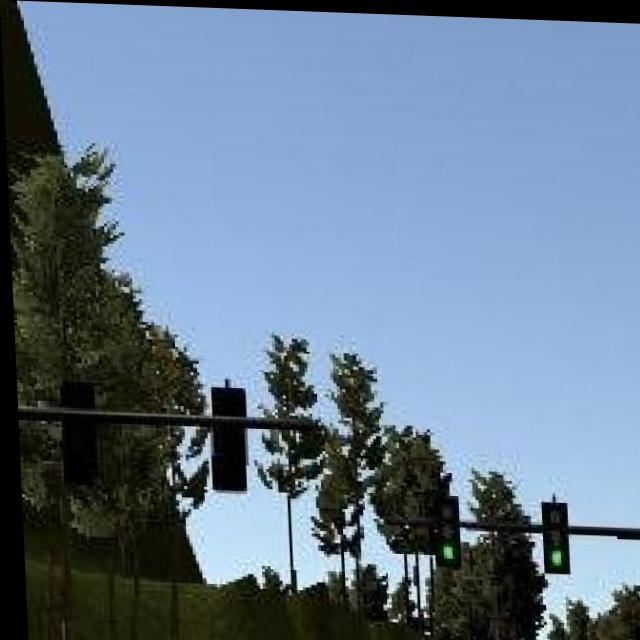green light: (429, 492, 457, 567), (537, 498, 565, 573)
